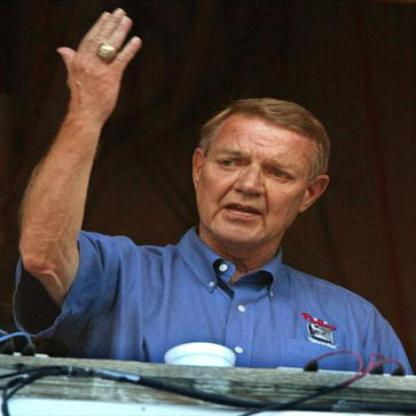face: (202, 100, 315, 249)
